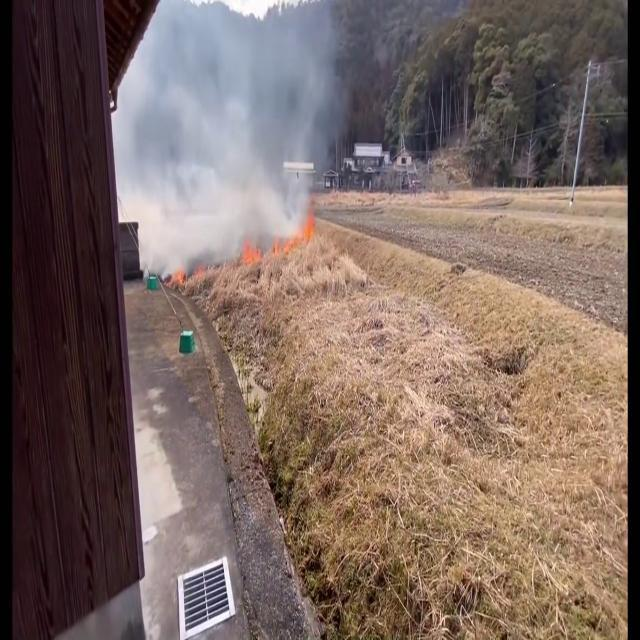Smoke: (128, 0, 344, 287)
